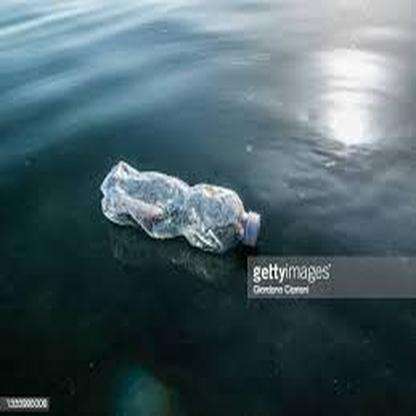plastic bottle: (97, 161, 261, 251)
